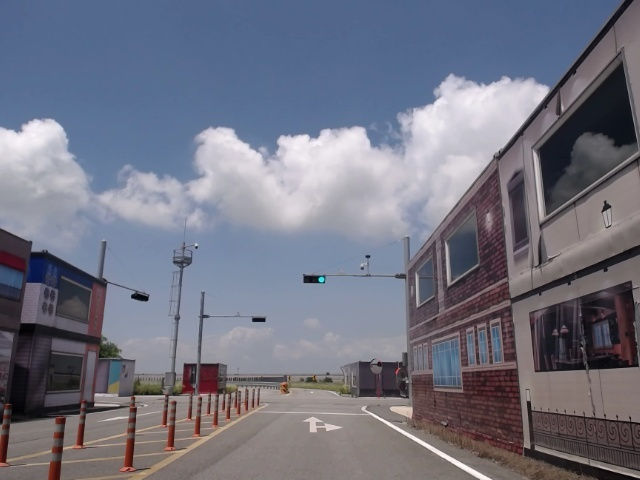green_3: (304, 275, 326, 283)
